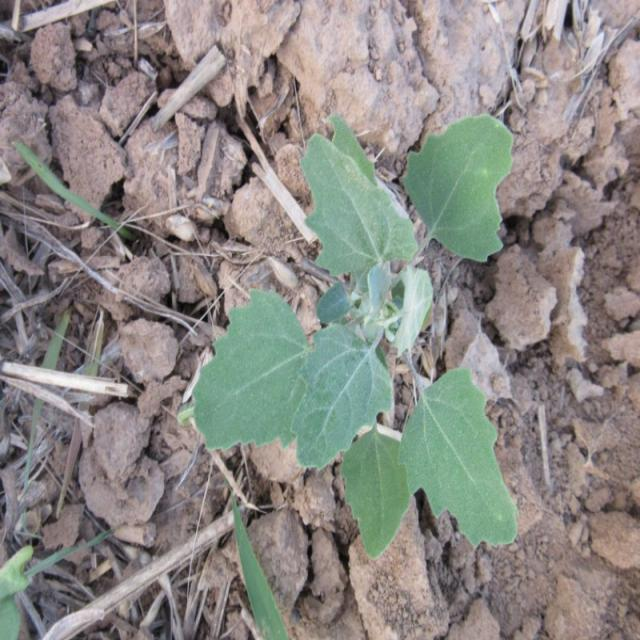ca: (196, 111, 521, 552)
